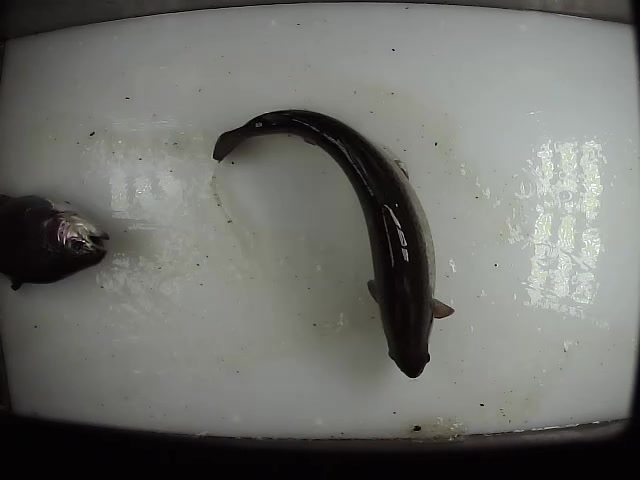fish: (212, 105, 457, 381), (1, 190, 111, 291)
